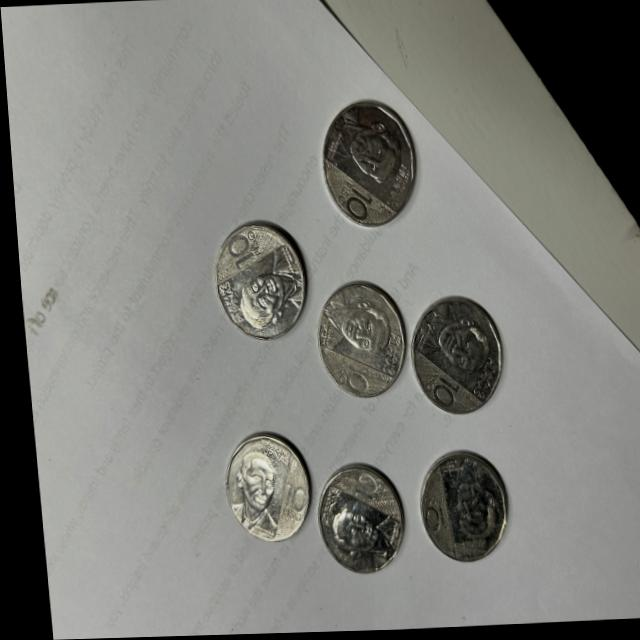10_New_Front: (325, 179, 376, 225), (215, 233, 267, 275), (322, 359, 369, 403), (418, 363, 453, 414), (270, 477, 304, 527), (334, 474, 379, 510), (411, 497, 437, 545)
